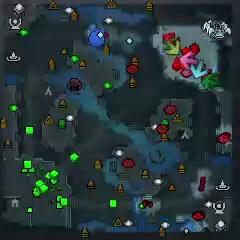p1: (89, 27, 105, 47)
x1: (180, 52, 197, 68)
x2: (164, 40, 180, 55)
x3: (190, 60, 207, 77)
x4: (202, 74, 220, 90)
